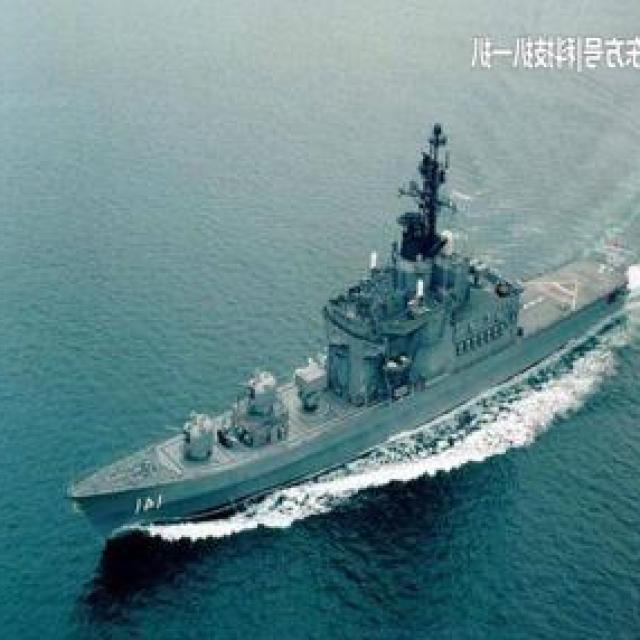navalvessels: (69, 130, 634, 532)
